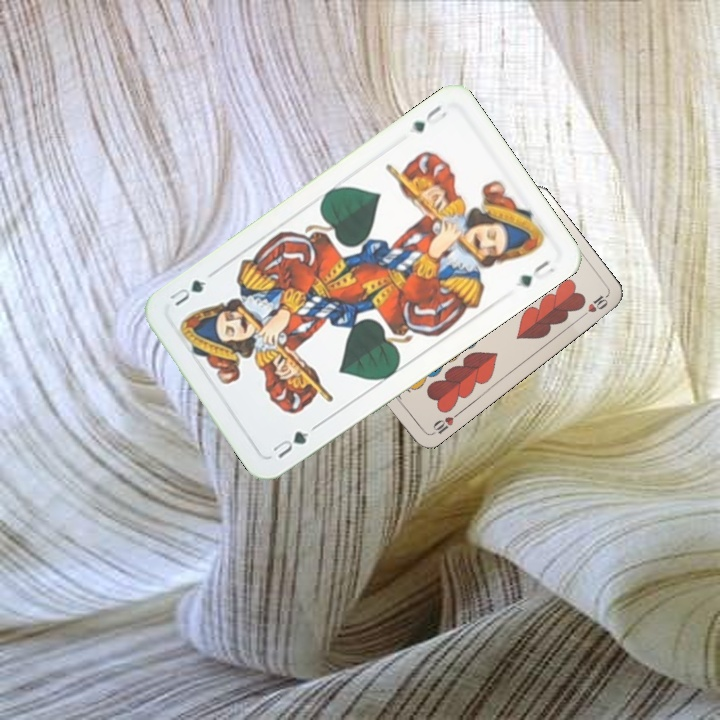GU: (267, 426, 312, 461), (407, 101, 450, 136)
H10: (427, 409, 461, 438)
